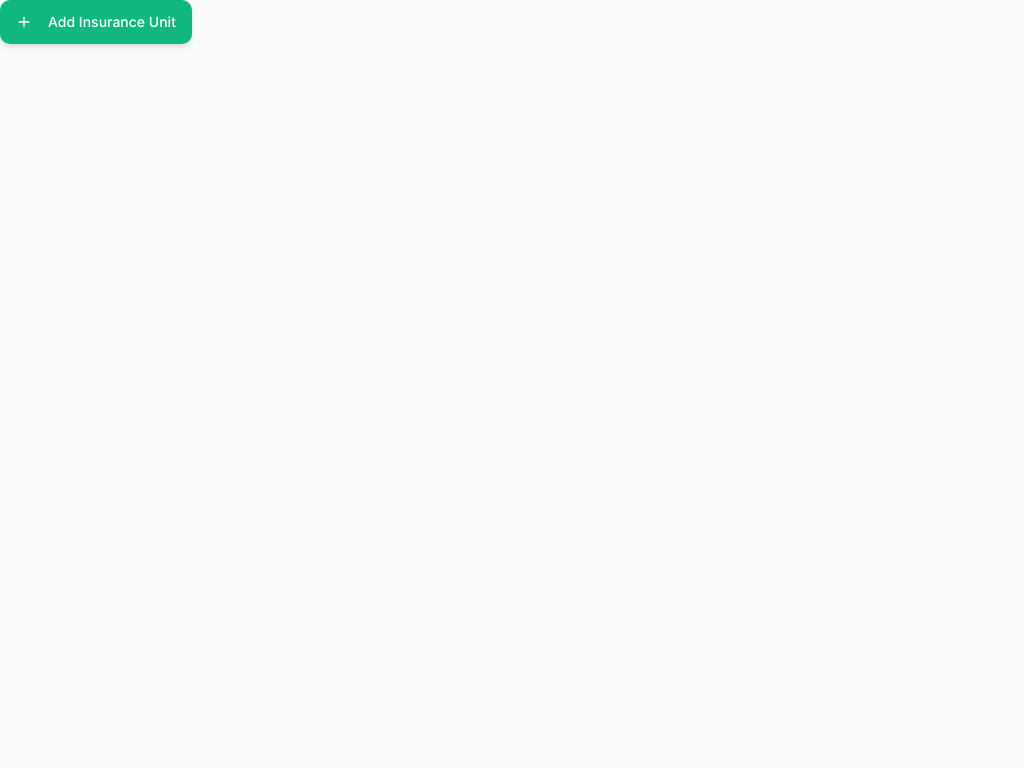
Test: CreateInsuranceUnitDialog › opens on Kenya with Kenya's seasons and defaults, and no Kenyan place in the placeholders
The width and height of the screenshot is (1024, 768).
Click the button "Add Insurance Unit" at (96, 22), box [0,0,192,44]
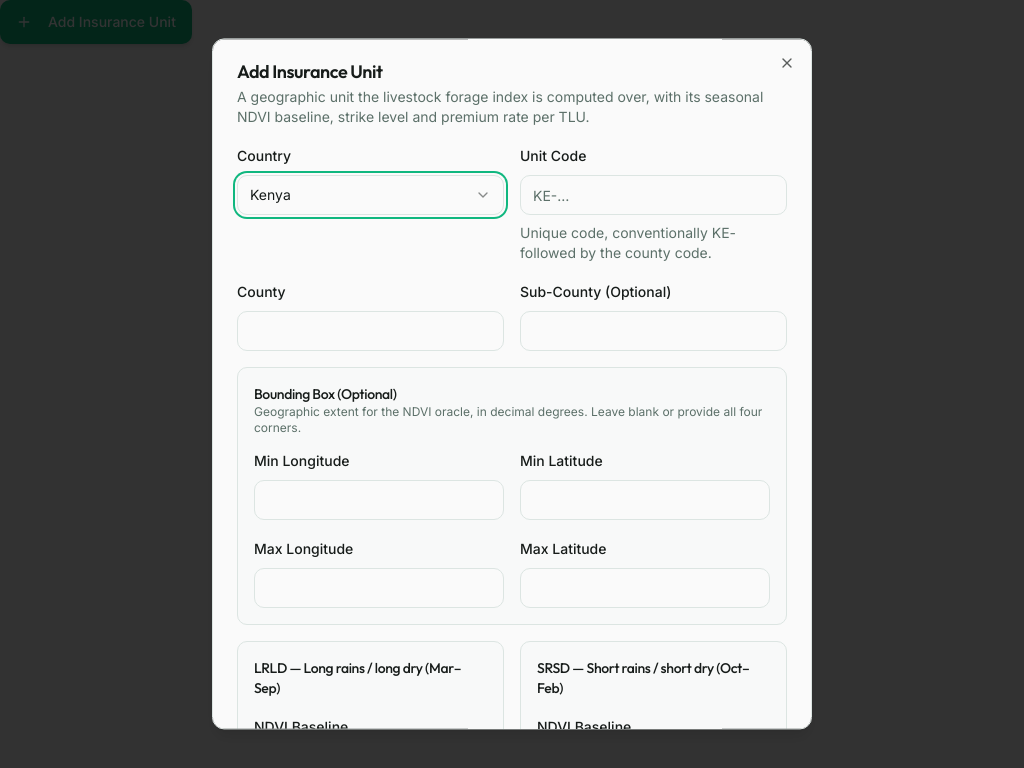
Now the heading "LRLD — Long rains / long dry (Mar–Sep)" is shown, box [254,658,487,698]
Now the heading "SRSD — Short rains / short dry (Oct–Feb)" is shown, box [537,658,770,698]
